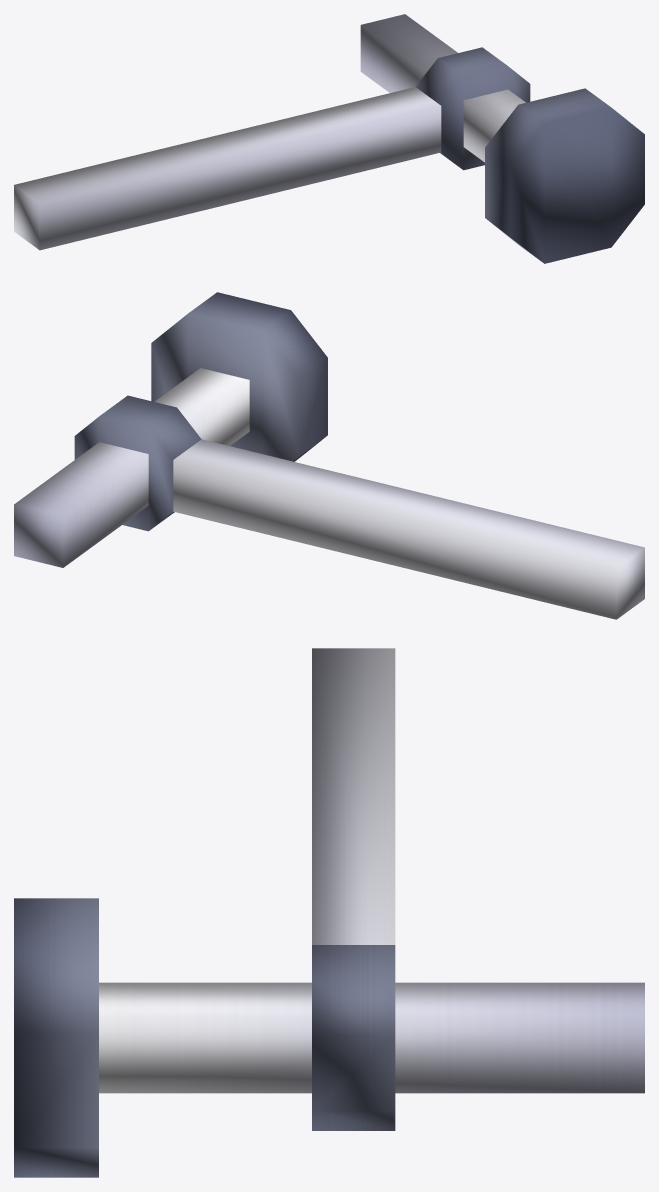
The model's file is fence.obj.
3 views of the same model, one above another, from view 1: azimuth 30°, elevation 25°; view 2: azimuth 150°, elevation 25°; view 3: azimuth 270°, elevation 25° (orthographic). The views are drawn at different scales.
Visible parts, largest first — view 1: fence.001; view 2: fence.001; view 3: fence.001.
Boxes of the visible parts, box(x1,y1,x2,y2) form: fence.001: box(14, 14, 644, 263); fence.001: box(14, 292, 644, 619); fence.001: box(14, 648, 644, 1177).
Size of the model in its own units: 0.575 by 0.15 by 0.379.
